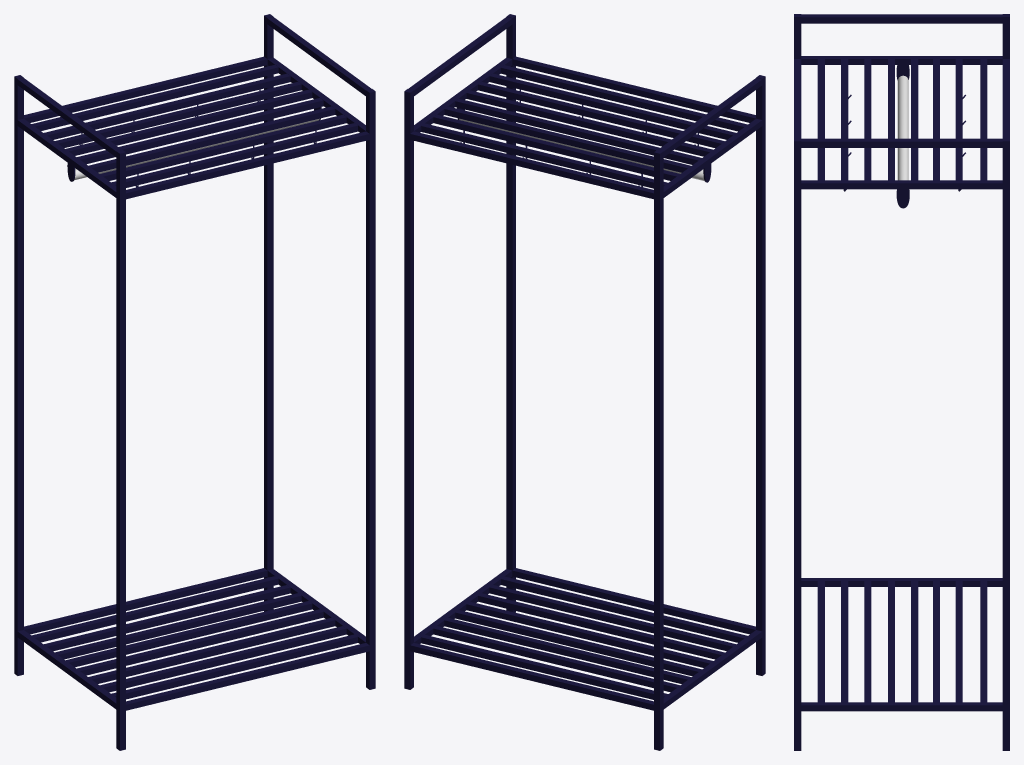
The model's file is coatrack.fbx.
The picture shows the model from 3 angles, left to right: view 1: azimuth 30°, elevation 25°; view 2: azimuth 150°, elevation 25°; view 3: azimuth 270°, elevation 25°; orthographic projection. The views are drawn at different scales.
Parts seen in each view (by area): view 1: Plane; view 2: Plane; view 3: Plane, Cylinder, Plane.001.
Part boxes in pixels (box(x1,y1,x2,y2)): Plane: box(14, 14, 375, 750); Plane: box(404, 14, 765, 750); Plane: box(794, 14, 1009, 750); Cylinder: box(897, 75, 908, 180); Plane.001: box(896, 65, 909, 208).
Bounding box in the file's own units: 83.86 × 187 × 60.
